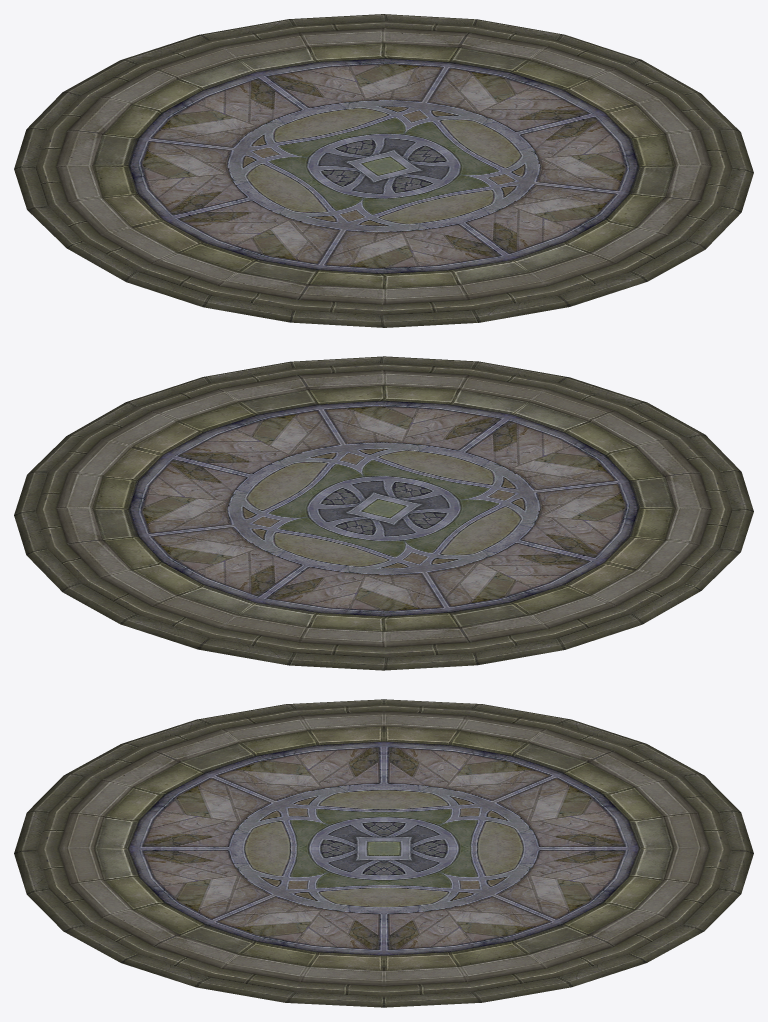
The model's file is H_Ferry01.FBX.
The picture shows the model from 3 angles, top to bottom: view 1: azimuth 30°, elevation 25°; view 2: azimuth 150°, elevation 25°; view 3: azimuth 270°, elevation 25°; orthographic projection.
Visible parts, largest first — view 1: H_Ferry01; view 2: H_Ferry01; view 3: H_Ferry01.
Part boxes in pixels (x1,y1,x2,y2): H_Ferry01: [14, 14, 753, 327]; H_Ferry01: [14, 356, 753, 670]; H_Ferry01: [14, 699, 753, 1007].
Bounding box in the file's own units: 1027 × 8.75 × 1042.
